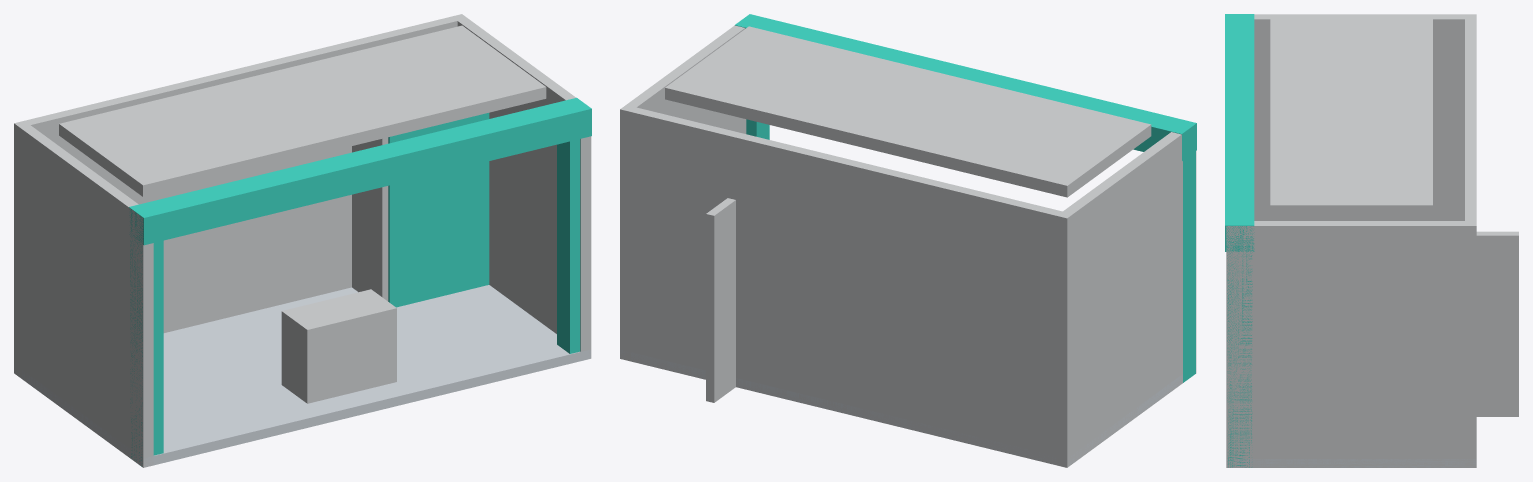
The picture shows the model from 3 angles, left to right: view 1: azimuth 30°, elevation 25°; view 2: azimuth 150°, elevation 25°; view 3: azimuth 270°, elevation 25°; orthographic projection. The views are drawn at different scales.
Parts seen in each view (by area): view 1: Exhibition Booth Concept; view 2: Exhibition Booth Concept; view 3: Exhibition Booth Concept.
Part boxes in pixels (x1,y1,x2,y2): Exhibition Booth Concept: (14, 14, 591, 467); Exhibition Booth Concept: (620, 14, 1196, 467); Exhibition Booth Concept: (1225, 14, 1518, 467).
Bounding box in the file's own units: 6 × 3.34 × 3.52.
